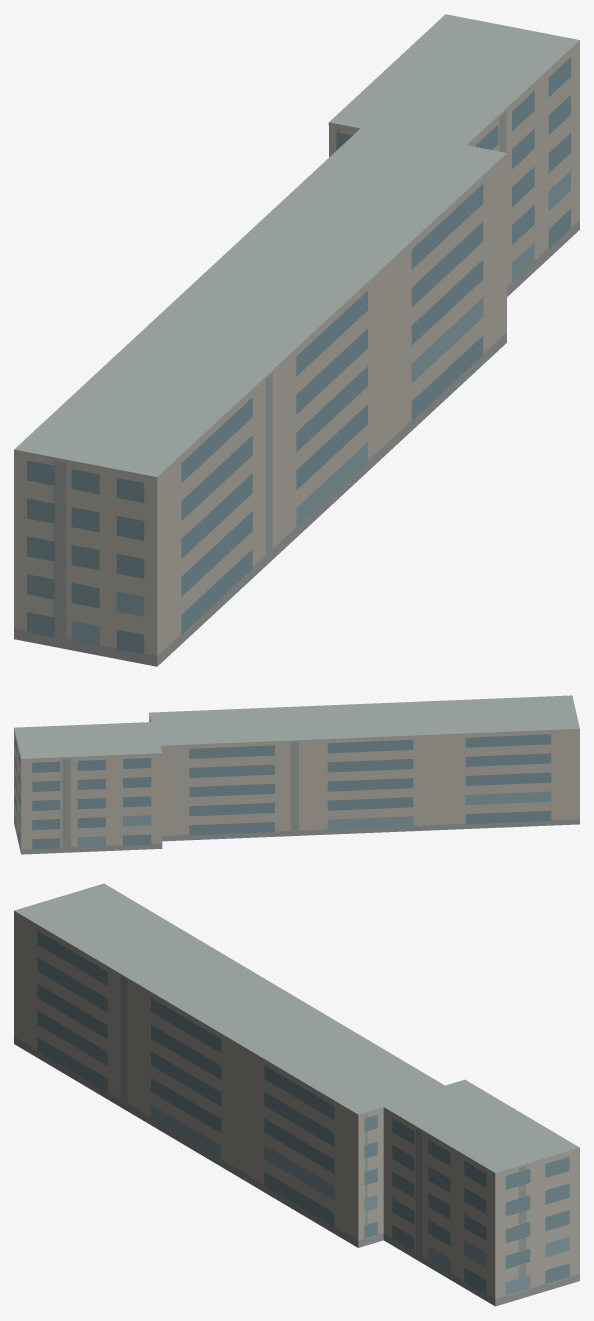
File: residential-9efb3793-df52-400d-a9ad-7a470877f572.glb
The picture shows the model from 3 angles, top to bottom: view 1: azimuth 30°, elevation 25°; view 2: azimuth 150°, elevation 25°; view 3: azimuth 270°, elevation 25°; orthographic projection. The views are drawn at different scales.
Visible parts, largest first — view 1: residential-9efb3793-df52-400d-a9ad-7a470877f572.tmp; view 2: residential-9efb3793-df52-400d-a9ad-7a470877f572.tmp; view 3: residential-9efb3793-df52-400d-a9ad-7a470877f572.tmp.
Boxes of the visible parts, x1,y1,x2,y2 form: residential-9efb3793-df52-400d-a9ad-7a470877f572.tmp: (14, 14, 579, 666); residential-9efb3793-df52-400d-a9ad-7a470877f572.tmp: (14, 695, 579, 854); residential-9efb3793-df52-400d-a9ad-7a470877f572.tmp: (14, 883, 579, 1306).
Size of the model in its own units: 71.04 by 15.25 by 58.65.
